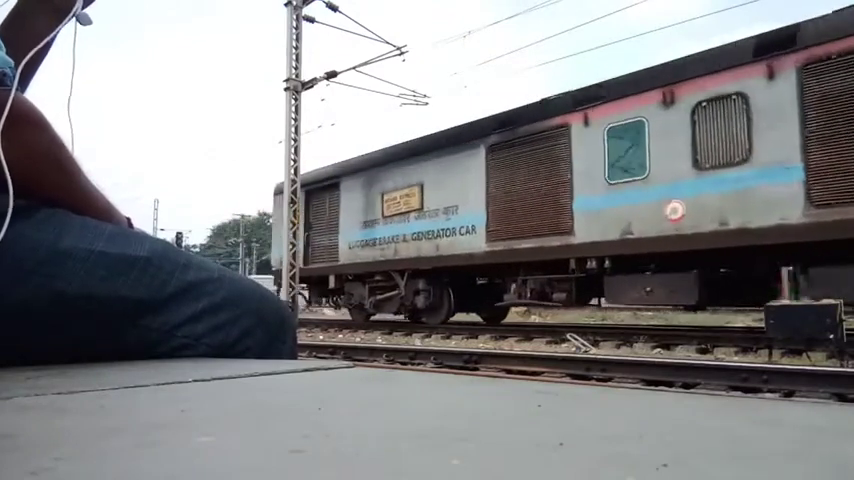Car Type: (338, 222, 482, 254)
